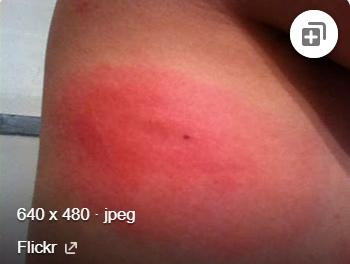Wasp: (93, 75, 207, 168)
